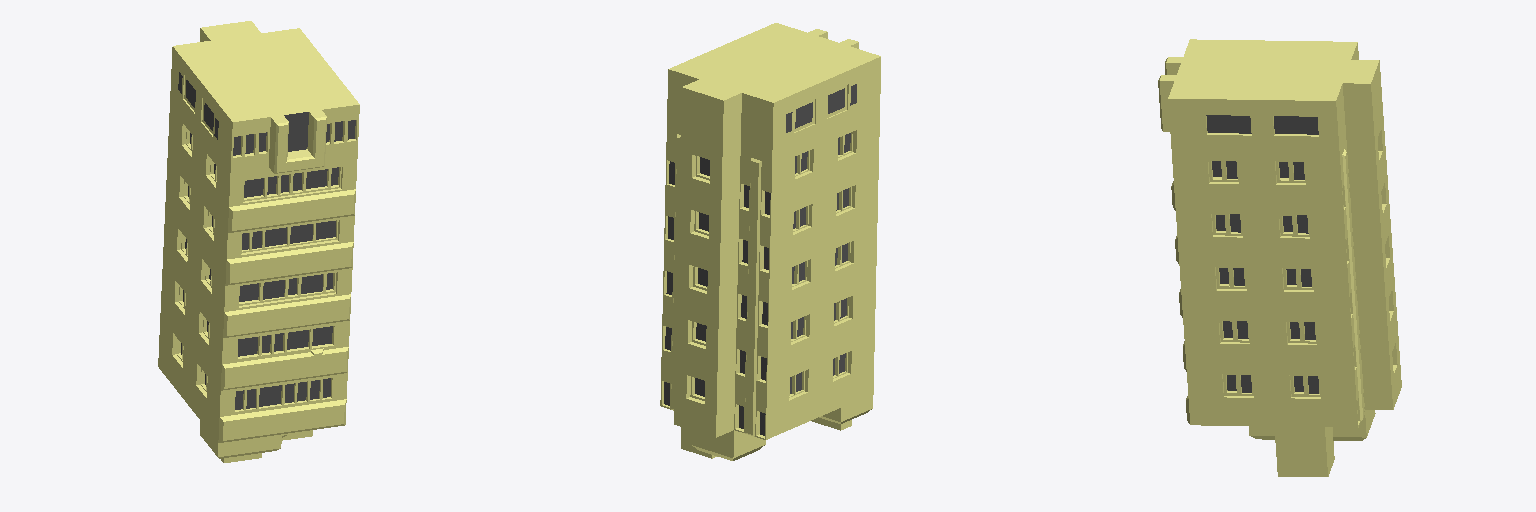
File: predio2.obj
3 views of the same model, side by side, from view 1: azimuth 30°, elevation 25°; view 2: azimuth 150°, elevation 25°; view 3: azimuth 270°, elevation 25° (orthographic).
Visible parts, largest first — view 1: Cube.3; view 2: Cube.3; view 3: Cube.3.
Boxes of the visible parts, x1,y1,x2,y2 form: Cube.3: [158, 21, 359, 462]; Cube.3: [660, 23, 880, 460]; Cube.3: [1158, 39, 1401, 476].
Bounding box in the file's own units: 74.91 × 193 × 110.